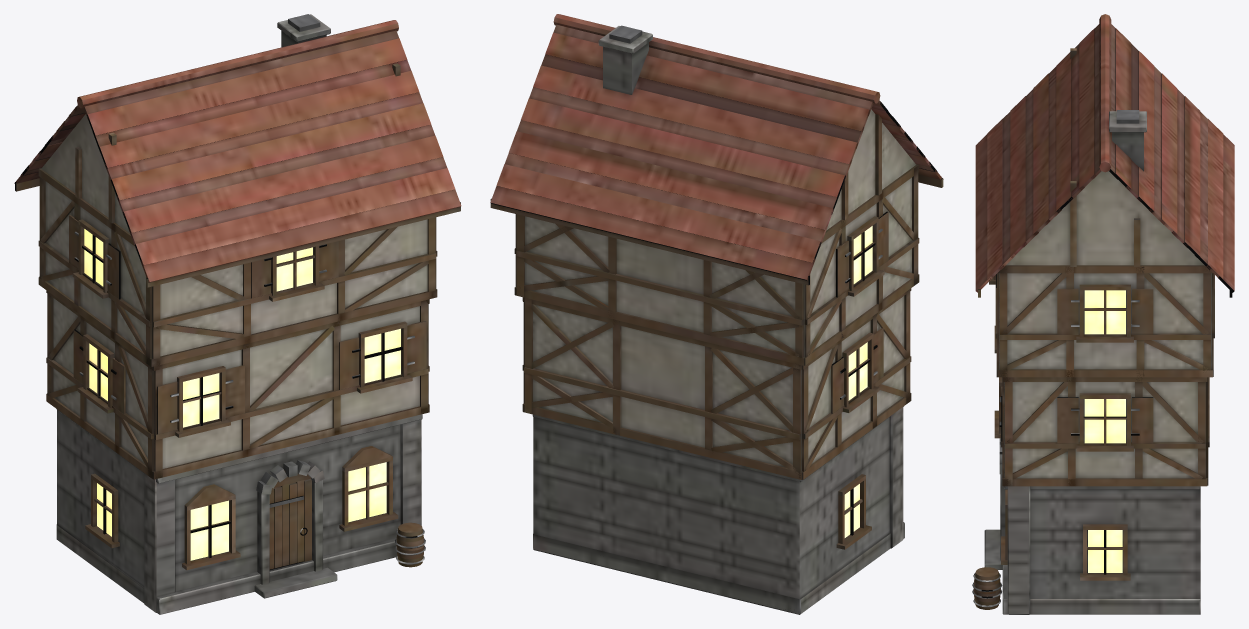
Rendered from casa_c.glb.
3 views of the same model, side by side, from view 1: azimuth 30°, elevation 25°; view 2: azimuth 150°, elevation 25°; view 3: azimuth 270°, elevation 25° (orthographic). The views are drawn at different scales.
Parts seen in each view (by area): view 1: casa_c; view 2: casa_c; view 3: casa_c.
Part boxes in pixels (box(x1,y1,x2,y2)): casa_c: box(14, 14, 461, 614); casa_c: box(490, 14, 943, 614); casa_c: box(972, 14, 1234, 614).
Bounding box in the file's own units: 7.7 × 11.54 × 5.78.
1 material, 1 textured.
